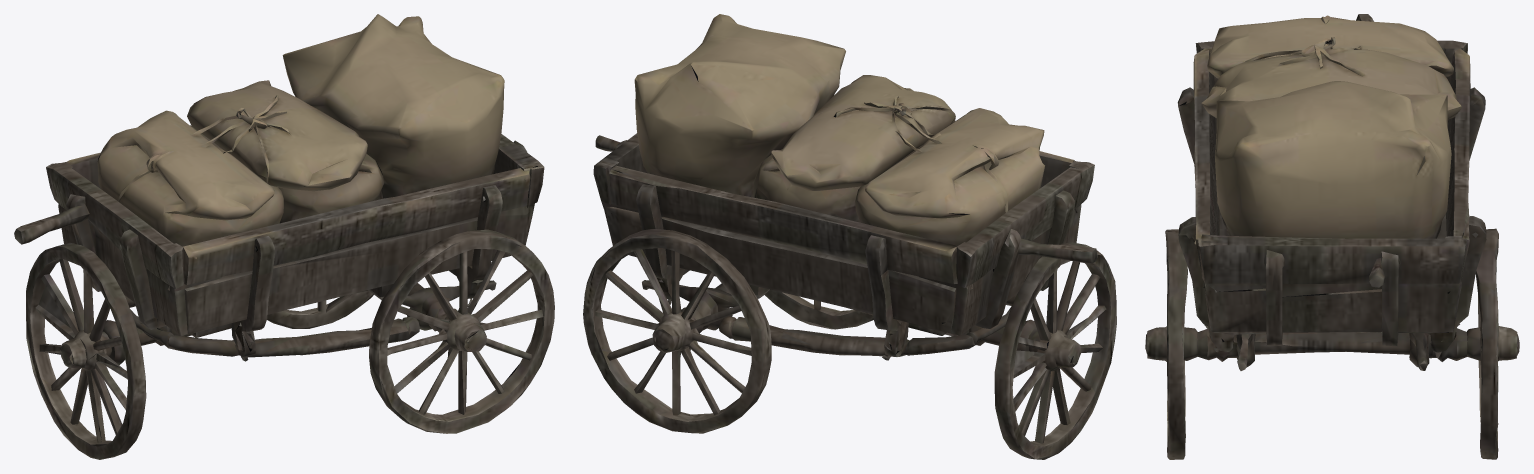
Rendered from cart.glb.
The picture shows the model from 3 angles, left to right: view 1: azimuth 30°, elevation 25°; view 2: azimuth 150°, elevation 25°; view 3: azimuth 270°, elevation 25°; orthographic projection. The views are drawn at different scales.
Parts seen in each view (by area): view 1: cart; view 2: cart; view 3: cart.
Part boxes in pixels (box(x1,y1,x2,y2)): cart: box(14, 14, 554, 459); cart: box(583, 14, 1116, 459); cart: box(1145, 14, 1519, 459).
Bounding box in the file's own units: 2.2 × 1.43 × 1.33.
1 material, 1 textured.
